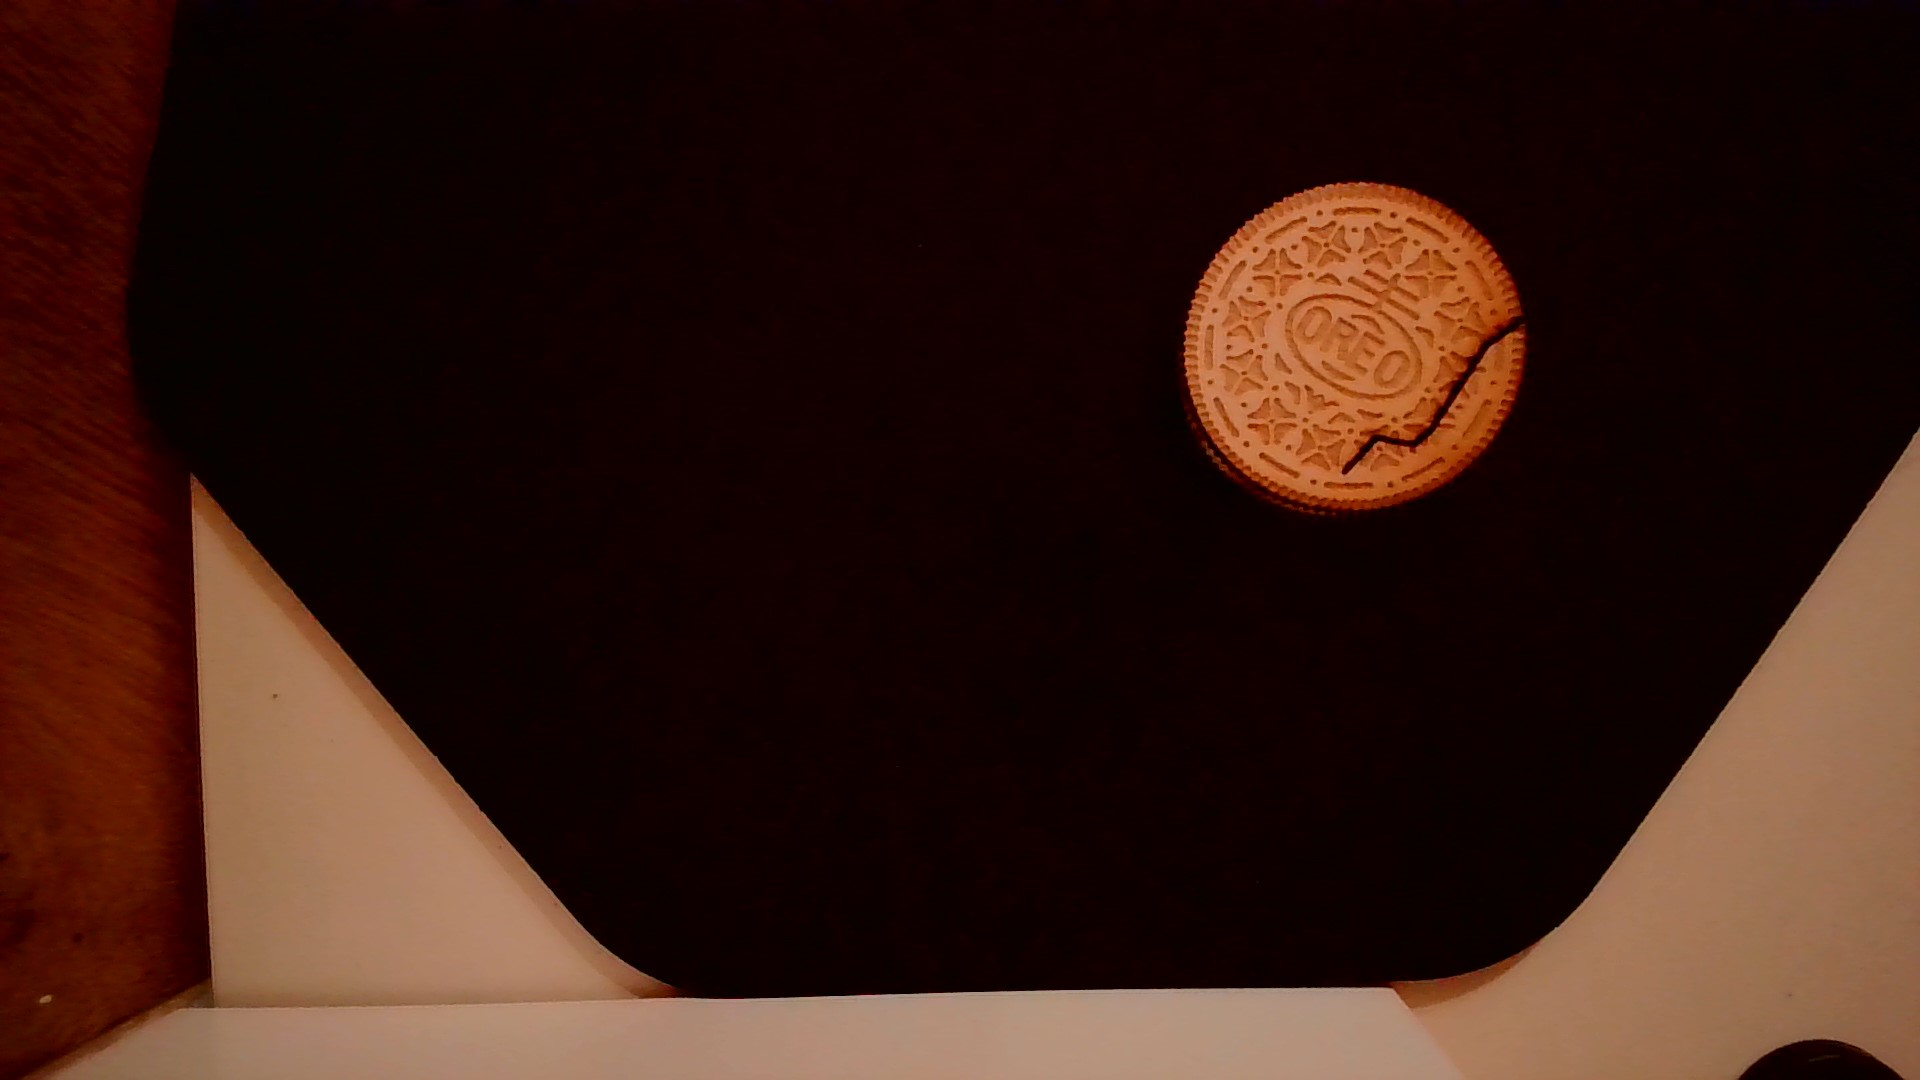Fissure: (1333, 307, 1535, 481)
Oréo: (1174, 170, 1531, 518)
